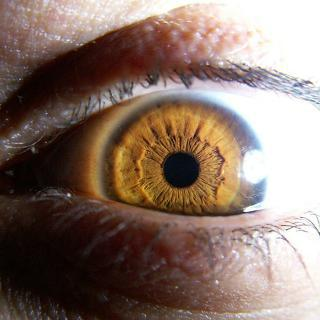pupil: (164, 153, 197, 187)
